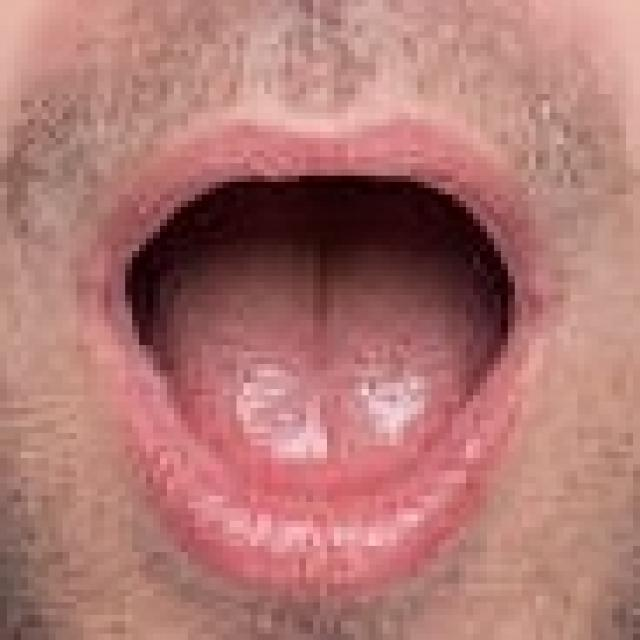open-mouth: (84, 106, 556, 596)
